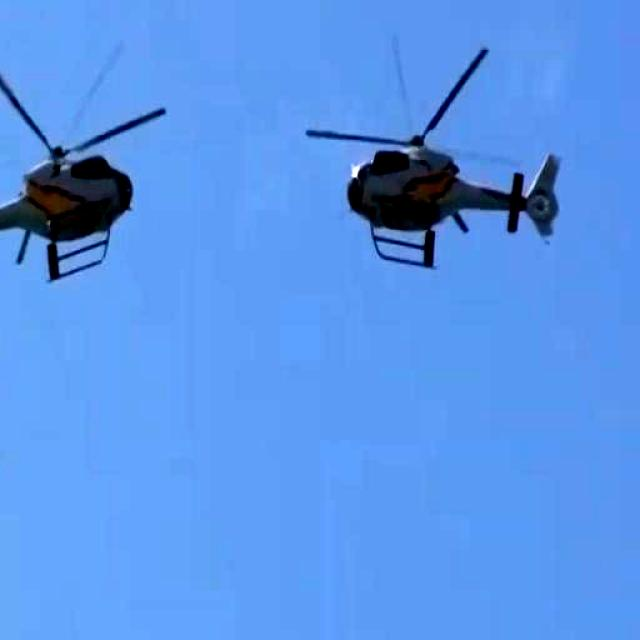drone: (332, 21, 568, 299), (0, 78, 179, 329)
